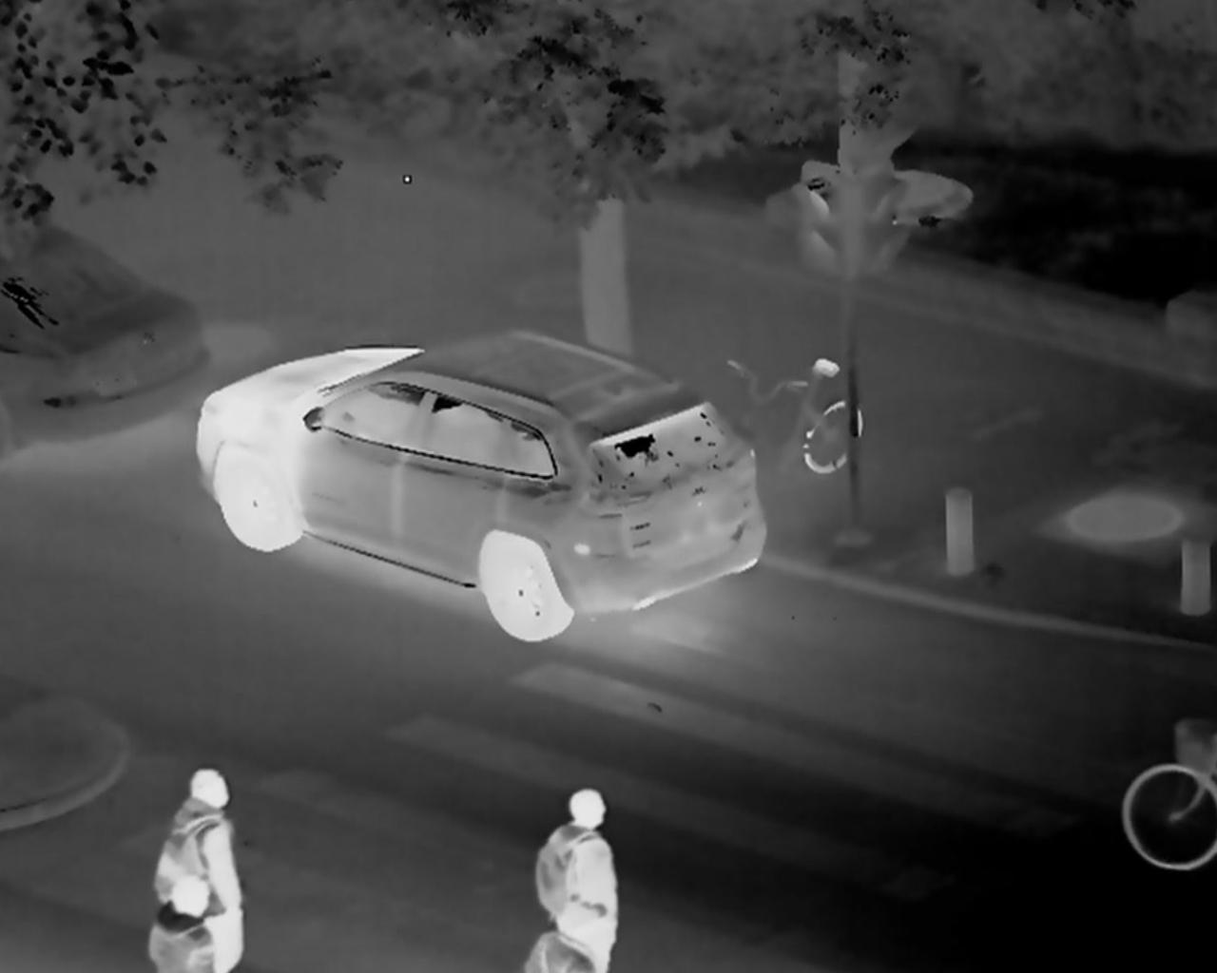person: (157, 770, 252, 969), (534, 791, 619, 972), (150, 886, 209, 973)
